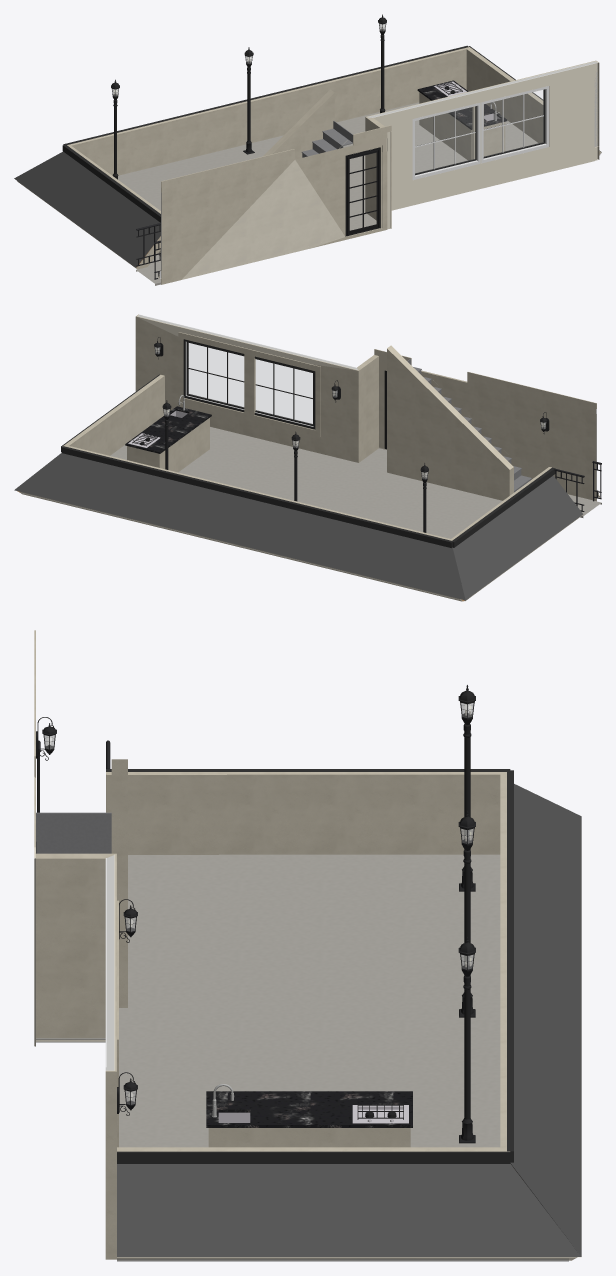
Rendered from rear-deck-82ae3a99aad3.glb.
3 renders of one model, top to bottom at view 1: azimuth 30°, elevation 25°; view 2: azimuth 150°, elevation 25°; view 3: azimuth 270°, elevation 25°, orthographic. The views are drawn at different scales.
Parts seen in each view (by area): view 1: rear-deck-bd62734a7bc60eb7, rear-deck-32021a86c784f0e0, rear-deck-245f595ae2832e16, rear-deck-36ed5266b1bc40cd, rear-deck-ded88bd99590d377, rear-deck-85ede138eeba504d, rear-deck-cdd3b97a7e9637be, rear-deck-dd55bfb54febbe8b, rear-deck-b5f10ab9081c9955, rear-deck-7511cdbc362aca5e, rear-deck-6b027cd2e6bc0d64, rear-deck-2c2eff91633c1380 (+6 smaller); view 2: rear-deck-5febae1537653d02, rear-deck-ded88bd99590d377, rear-deck-bd62734a7bc60eb7, rear-deck-7511cdbc362aca5e, rear-deck-245f595ae2832e16, rear-deck-36ed5266b1bc40cd, rear-deck-cdd3b97a7e9637be, rear-deck-85ede138eeba504d, rear-deck-dd55bfb54febbe8b, rear-deck-d7a70b5818f54477, rear-deck-6b027cd2e6bc0d64, rear-deck-b5f10ab9081c9955 (+6 smaller); view 3: rear-deck-ded88bd99590d377, rear-deck-0e7e1de83ff8e24c, rear-deck-18b8f93424e26a44, rear-deck-5febae1537653d02, rear-deck-6b027cd2e6bc0d64, rear-deck-385241de3d752b47, rear-deck-5e5272df00660e4c, rear-deck-b5f10ab9081c9955, rear-deck-7511cdbc362aca5e, rear-deck-245f595ae2832e16, rear-deck-d7a70b5818f54477, rear-deck-32021a86c784f0e0 (+10 smaller).
Part boxes in pixels (<box>): rear-deck-bd62734a7bc60eb7: <box>161,125,391,284</box>; rear-deck-32021a86c784f0e0: <box>67,47,467,175</box>; rear-deck-245f595ae2832e16: <box>365,60,597,212</box>; rear-deck-36ed5266b1bc40cd: <box>14,151,160,267</box>; rear-deck-ded88bd99590d377: <box>118,102,538,282</box>; rear-deck-85ede138eeba504d: <box>412,102,480,179</box>; rear-deck-cdd3b97a7e9637be: <box>481,86,549,163</box>; rear-deck-dd55bfb54febbe8b: <box>466,47,543,142</box>; rear-deck-b5f10ab9081c9955: <box>419,92,505,160</box>; rear-deck-7511cdbc362aca5e: <box>263,89,334,159</box>; rear-deck-6b027cd2e6bc0d64: <box>365,117,390,229</box>; rear-deck-2c2eff91633c1380: <box>347,150,378,235</box>; rear-deck-5febae1537653d02: <box>14,453,465,600</box>; rear-deck-ded88bd99590d377: <box>110,427,596,538</box>; rear-deck-bd62734a7bc60eb7: <box>374,349,596,501</box>; rear-deck-7511cdbc362aca5e: <box>387,345,513,500</box>; rear-deck-245f595ae2832e16: <box>135,315,359,462</box>; rear-deck-36ed5266b1bc40cd: <box>453,475,582,599</box>; rear-deck-cdd3b97a7e9637be: <box>183,339,244,412</box>; rear-deck-85ede138eeba504d: <box>254,356,315,429</box>; rear-deck-dd55bfb54febbe8b: <box>62,374,164,455</box>; rear-deck-d7a70b5818f54477: <box>61,446,452,548</box>; rear-deck-6b027cd2e6bc0d64: <box>357,355,378,462</box>; rear-deck-b5f10ab9081c9955: <box>127,418,209,472</box>; rear-deck-ded88bd99590d377: <box>36,854,500,1147</box>; rear-deck-0e7e1de83ff8e24c: <box>117,1164,581,1257</box>; rear-deck-18b8f93424e26a44: <box>106,772,505,854</box>; rear-deck-5febae1537653d02: <box>510,784,581,1256</box>; rear-deck-6b027cd2e6bc0d64: <box>36,853,114,1037</box>; rear-deck-385241de3d752b47: <box>206,1091,412,1127</box>; rear-deck-5e5272df00660e4c: <box>117,1151,510,1163</box>; rear-deck-b5f10ab9081c9955: <box>208,1128,410,1147</box>; rear-deck-7511cdbc362aca5e: <box>111,759,127,1007</box>; rear-deck-245f595ae2832e16: <box>105,853,116,1259</box>; rear-deck-d7a70b5818f54477: <box>507,770,513,1162</box>; rear-deck-32021a86c784f0e0: <box>500,772,506,1149</box>.
Size of the model in its own units: 12.61 by 3.37 by 6.62.
30 materials, 5 textured.
